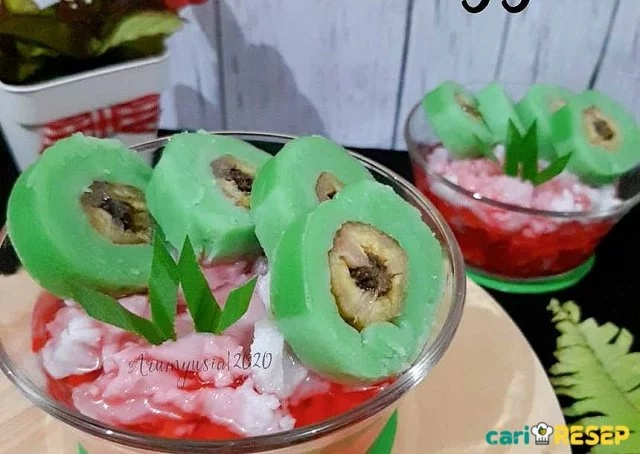pisang_ijo: (287, 191, 456, 380)
